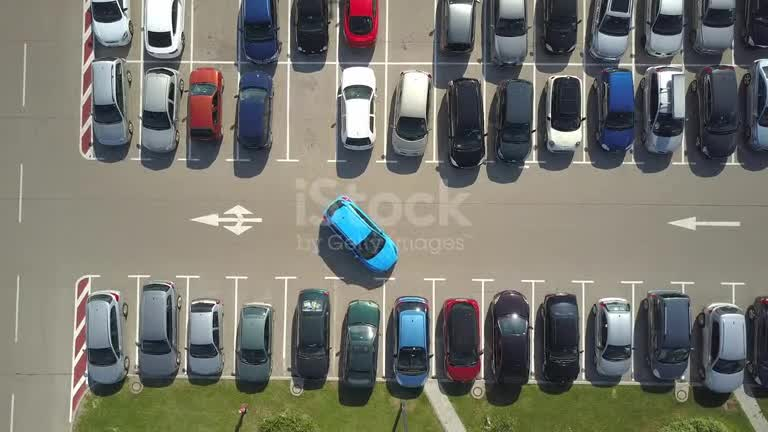car: (323, 196, 397, 272), (691, 65, 740, 157), (697, 303, 746, 392), (643, 290, 691, 380), (138, 281, 181, 378), (85, 290, 128, 384), (639, 66, 685, 153), (490, 290, 530, 384), (91, 57, 133, 145), (446, 78, 486, 168), (141, 67, 183, 152), (393, 296, 431, 387), (292, 289, 330, 379), (391, 70, 431, 155), (341, 300, 380, 387), (593, 68, 634, 150), (542, 293, 579, 383), (443, 298, 482, 382), (494, 79, 533, 161), (592, 298, 632, 376), (235, 302, 273, 383), (340, 66, 375, 149), (545, 75, 583, 151), (186, 298, 223, 376), (237, 72, 272, 148), (590, 0, 633, 61), (188, 67, 223, 140), (240, 0, 280, 63), (490, 0, 528, 64), (691, 0, 735, 54), (643, 0, 684, 57), (144, 0, 184, 58), (742, 59, 767, 150), (745, 296, 767, 386), (543, 0, 580, 53), (91, 0, 133, 46), (439, 0, 475, 52), (294, 0, 328, 54), (343, 0, 379, 48), (741, 0, 767, 47)
